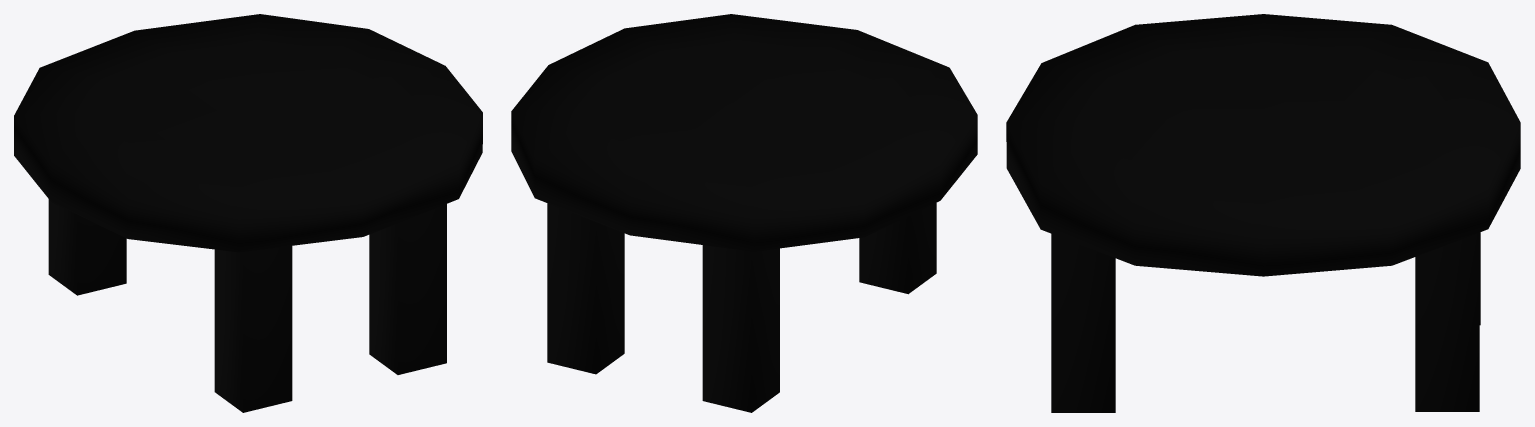
3 views of the same model, side by side, from view 1: azimuth 30°, elevation 25°; view 2: azimuth 150°, elevation 25°; view 3: azimuth 270°, elevation 25° (orthographic). The views are drawn at different scales.
Visible parts, largest first — view 1: T1L1M004_2; view 2: T1L1M004_2; view 3: T1L1M004_2.
Boxes of the visible parts, left/top/right/bottom form: T1L1M004_2: left=14, top=14, right=482, bottom=412; T1L1M004_2: left=511, top=14, right=977, bottom=412; T1L1M004_2: left=1006, top=14, right=1520, bottom=412.
Size of the model in its own units: 2 by 1.01 by 2.
